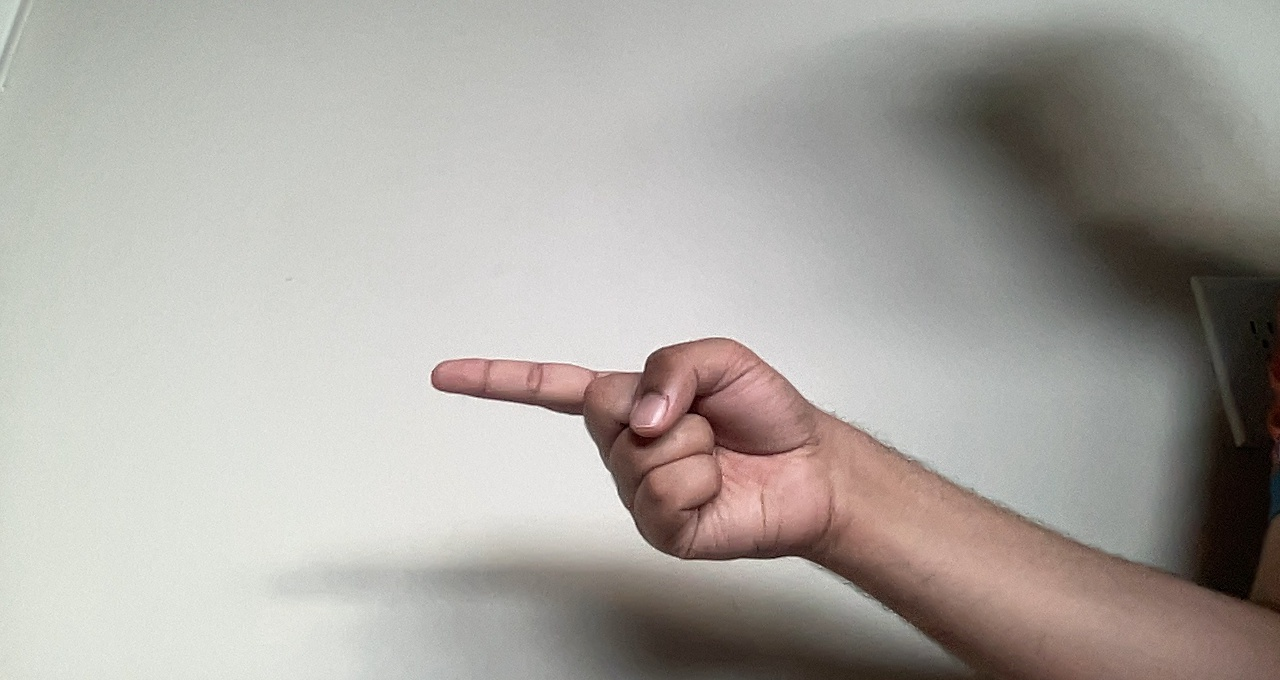fingerright: (421, 331, 844, 573)
